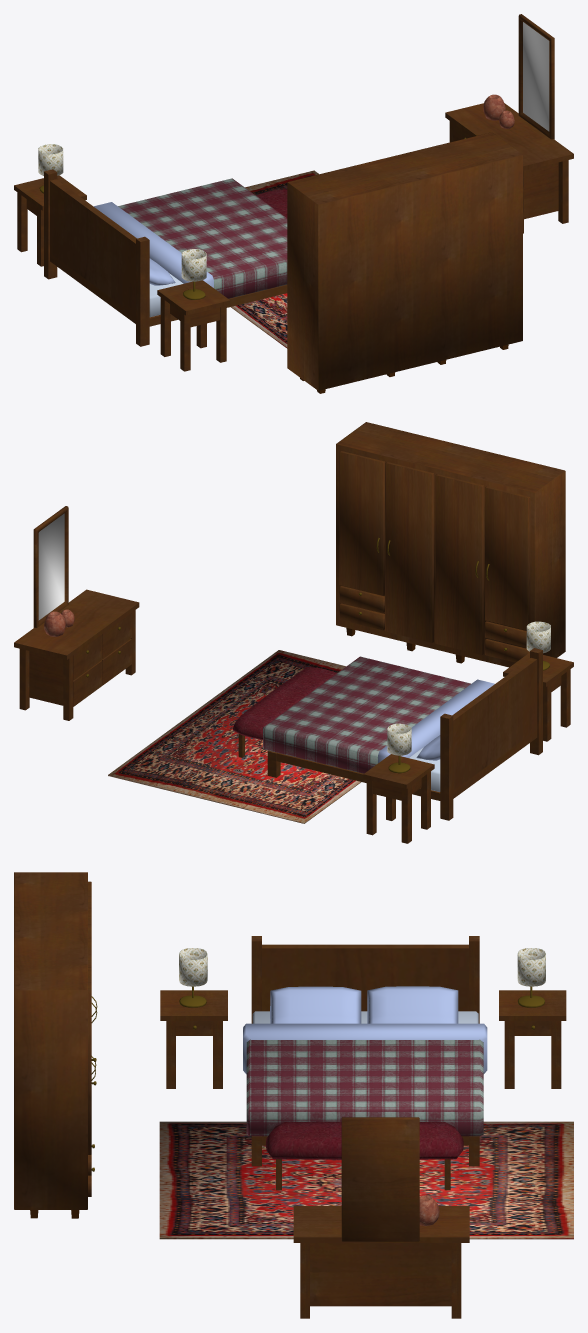
Rendered from Bedroom.fbx.
3 views of the same model, one above another, from view 1: azimuth 30°, elevation 25°; view 2: azimuth 150°, elevation 25°; view 3: azimuth 270°, elevation 25° (orthographic). The views are drawn at different scales.
Parts seen in each view (by area): view 1: wardrobe, bed_big, dresser_, bedside_L, red, bedside_R_, lamp_L, lamp_R, vase_, bench; view 2: wardrobe, bed_big, red, dresser_, bedside_R_, bench, bedside_L, lamp_R, lamp_L, vase_; view 3: bed_big, red, wardrobe, dresser_, bench, bedside_R_, bedside_L, lamp_R, lamp_L.
Part boxes in pixels (<box>): wardrobe: <box>287,132,522,393</box>; bed_big: <box>44,169,287,346</box>; dresser_: <box>445,14,573,233</box>; bedside_L: <box>157,280,230,371</box>; red: <box>230,170,318,348</box>; bedside_R_: <box>14,175,86,266</box>; lamp_L: <box>181,249,206,299</box>; lamp_R: <box>38,144,63,193</box>; vase_: <box>483,94,514,128</box>; bench: <box>256,189,287,217</box>; wardrobe: <box>336,422,565,667</box>; bed_big: <box>263,648,542,820</box>; red: <box>108,650,361,823</box>; dresser_: <box>14,506,139,720</box>; bedside_R_: <box>363,754,434,843</box>; bench: <box>232,667,336,757</box>; bedside_L: <box>503,652,573,741</box>; lamp_R: <box>387,723,411,773</box>; lamp_L: <box>526,621,550,670</box>; vase_: <box>44,609,74,636</box>; bed_big: <box>243,936,487,1166</box>; red: <box>159,1121,573,1239</box>; wardrobe: <box>14,872,97,1218</box>; dresser_: <box>293,1117,469,1318</box>; bench: <box>266,1121,463,1190</box>; bedside_R_: <box>499,990,566,1088</box>; bedside_L: <box>160,990,227,1088</box>; lamp_R: <box>517,948,545,1007</box>; lamp_L: <box>179,948,207,1007</box>.
Bounding box in the file's own units: 650 × 271 × 590.
